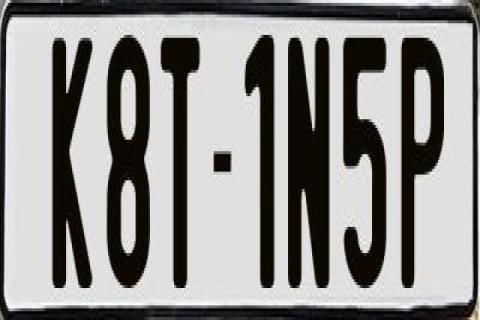0: (105, 35, 155, 303), (344, 35, 390, 303), (241, 26, 278, 282)
K: (51, 32, 98, 294)
N: (288, 38, 336, 294)
P: (398, 29, 446, 291)
T: (158, 38, 198, 302)
